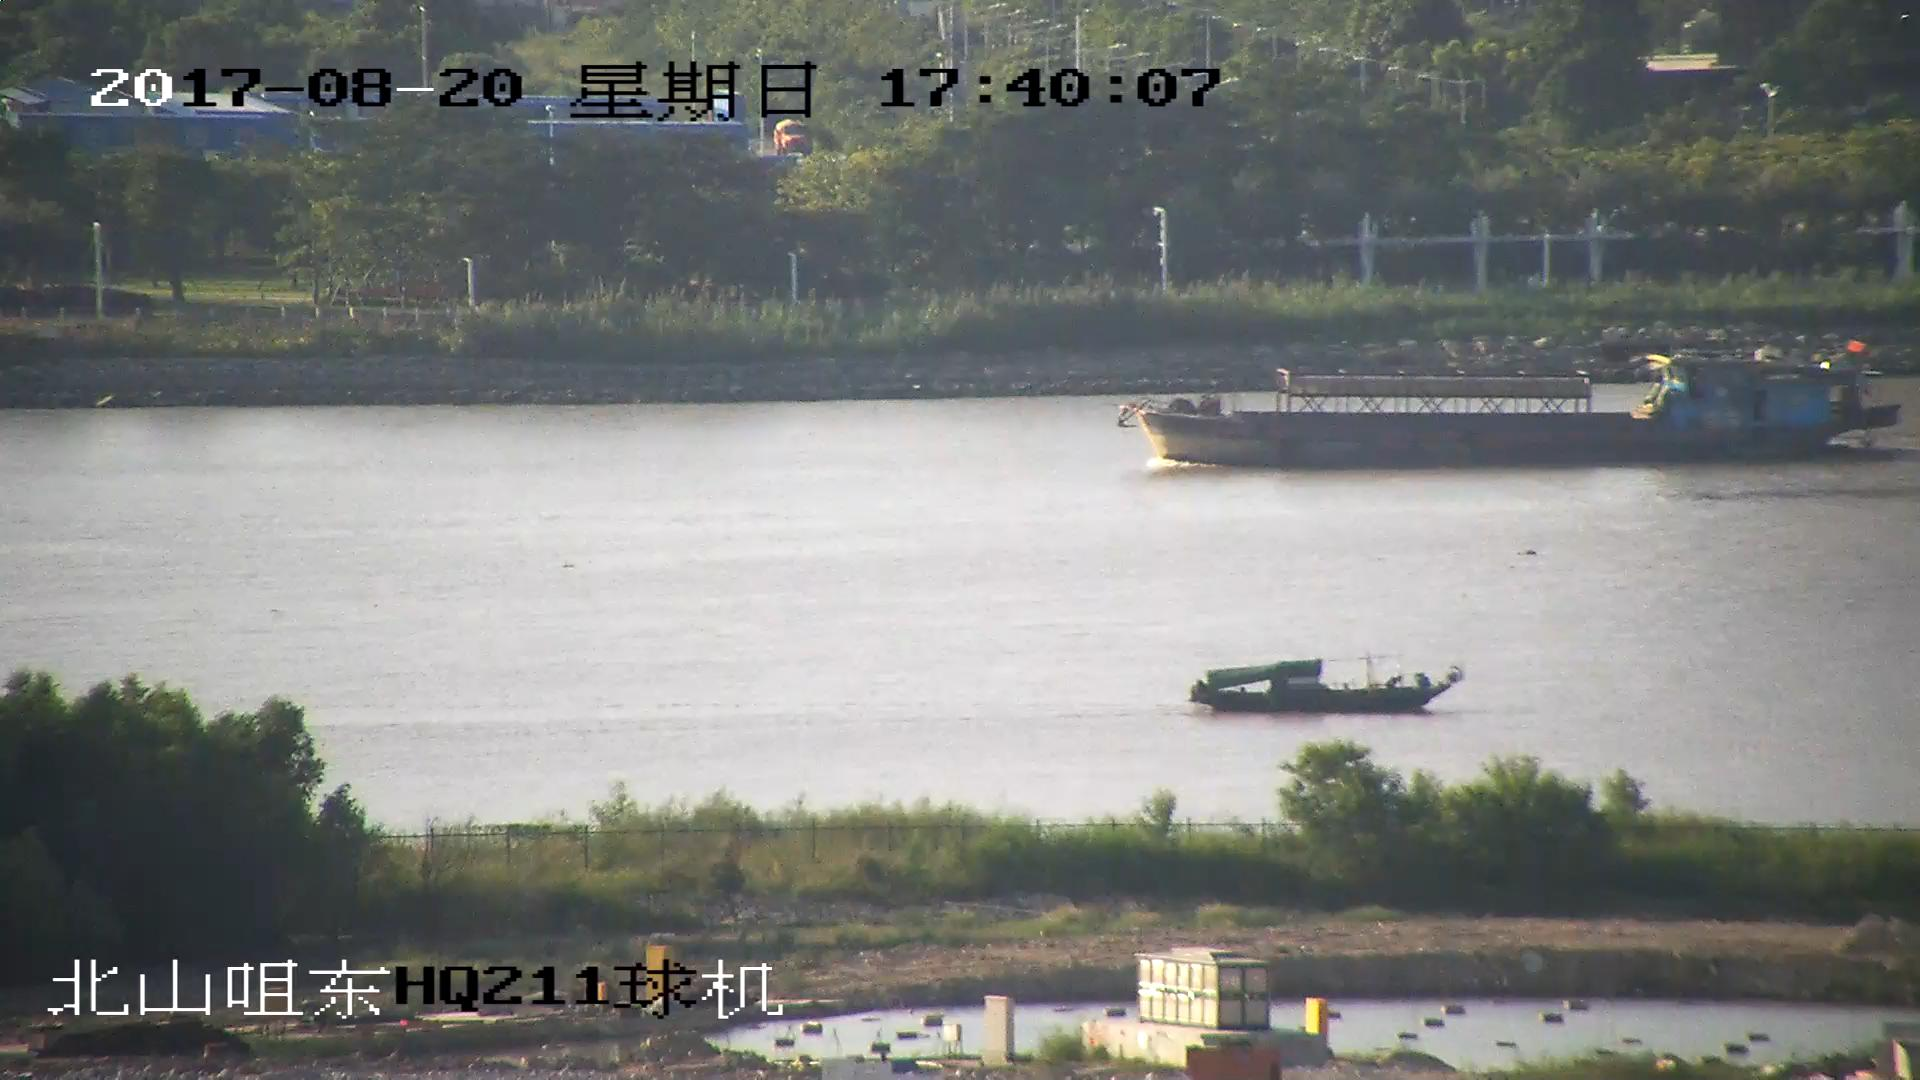fishing boat: (1117, 350, 1902, 470), (1193, 658, 1466, 711)
